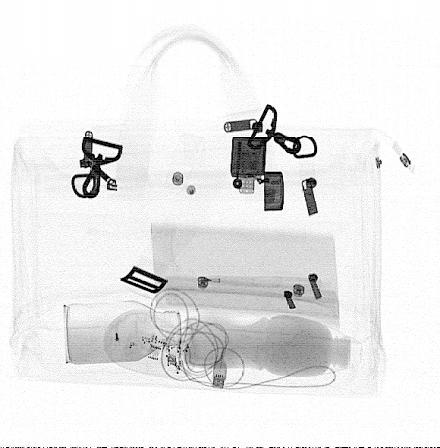Lighter: (230, 137, 285, 211)
